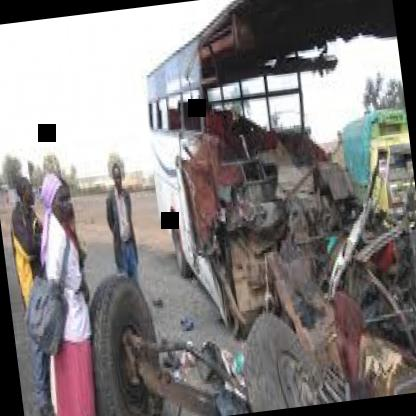accident: (123, 0, 416, 416)
